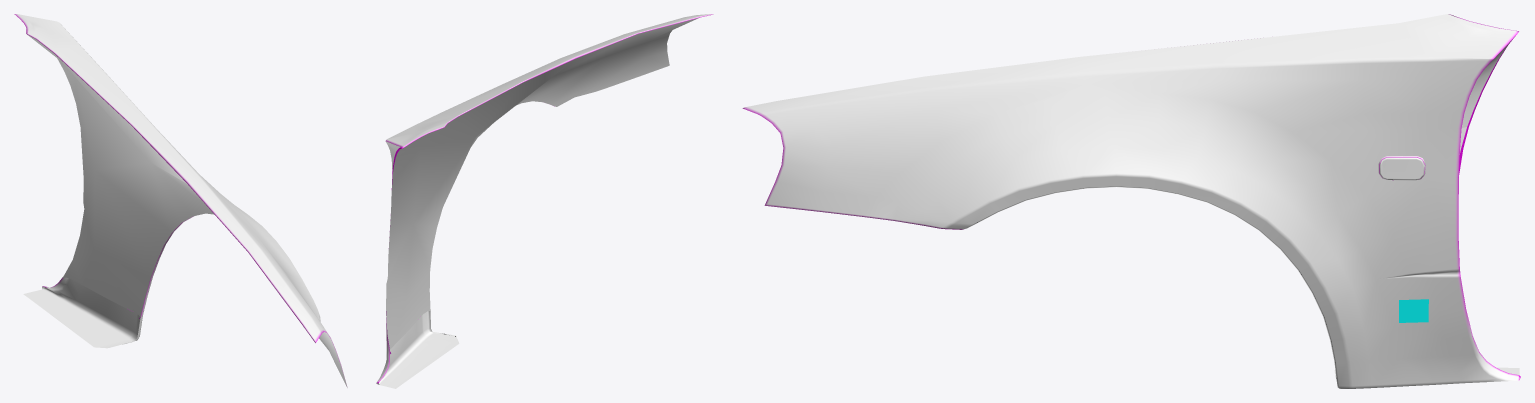
The model's file is Car_Nissan_SkylineGTRVspecR34_1999_FenderFL_SetA_AltB.fbx.
3 views of the same model, side by side, from view 1: azimuth 30°, elevation 25°; view 2: azimuth 150°, elevation 25°; view 3: azimuth 270°, elevation 25° (orthographic). The views are drawn at different scales.
Parts seen in each view (by area): view 1: FenderFL 6; view 2: FenderFL 6; view 3: FenderFL 6.
Part boxes in pixels (box(x1,y1,x2,y2)): FenderFL 6: box(14, 14, 347, 387); FenderFL 6: box(376, 14, 713, 388); FenderFL 6: box(742, 14, 1520, 388).
Bounding box in the file's own units: 0.2093 × 0.6196 × 1.29.
